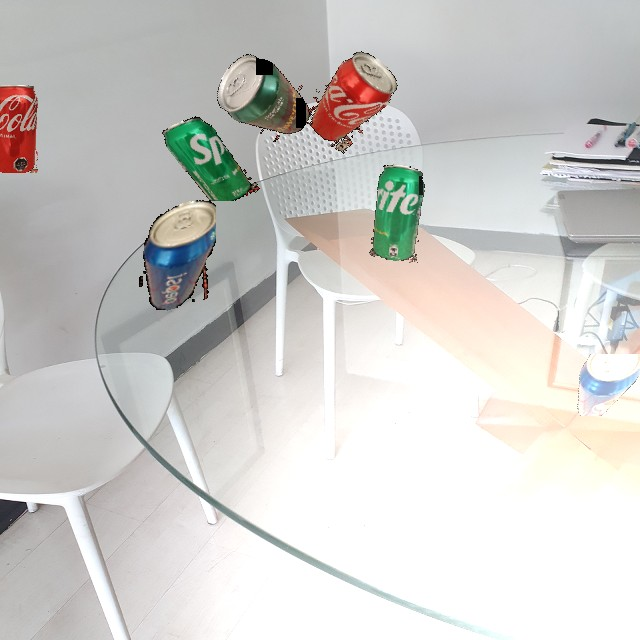coca cola: (296, 44, 405, 156), (0, 85, 38, 173)
pepsi: (135, 191, 216, 321), (568, 354, 640, 416)
schweppes: (208, 45, 324, 151)
sprite: (157, 106, 260, 201), (369, 163, 427, 263)
